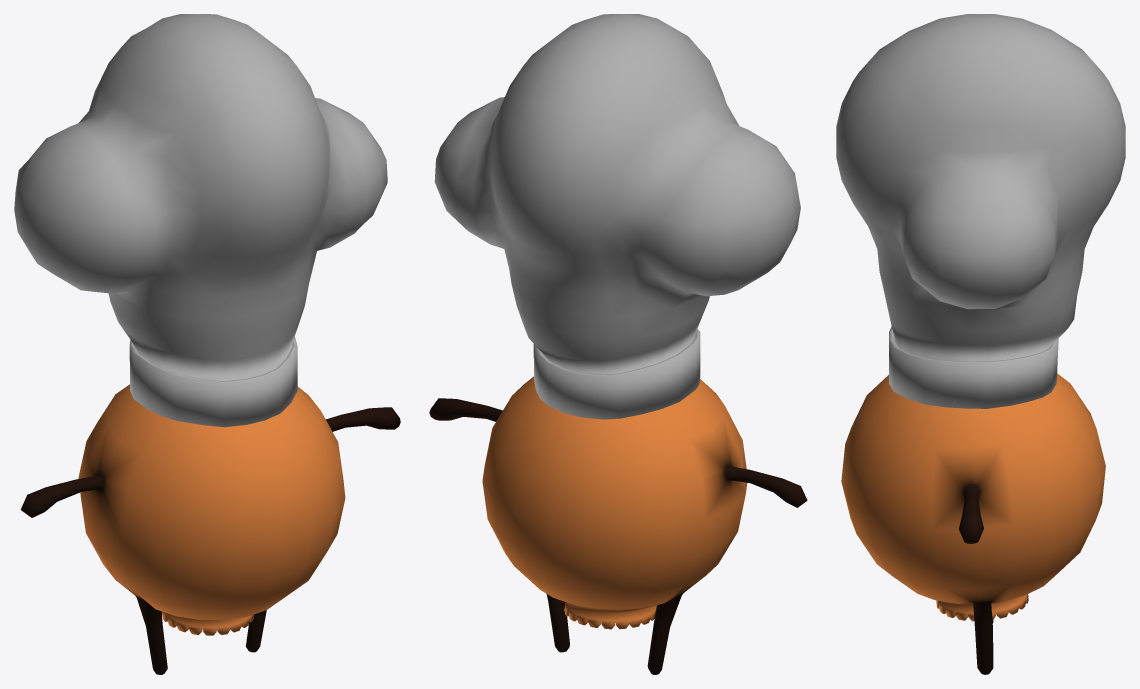
Rendered from Onion_ForTexutring.fbx.
3 renders of one model, left to right at view 1: azimuth 30°, elevation 25°; view 2: azimuth 150°, elevation 25°; view 3: azimuth 270°, elevation 25°, orthographic.
Visible parts, largest first — view 1: ChefHat, Onion; view 2: ChefHat, Onion; view 3: ChefHat, Onion.
Boxes of the visible parts, x1,y1,x2,y2 form: ChefHat: [14, 14, 387, 427]; Onion: [20, 384, 400, 674]; ChefHat: [434, 14, 800, 419]; Onion: [429, 376, 807, 674]; ChefHat: [836, 14, 1125, 408]; Onion: [841, 373, 1105, 674].
Bounding box in the file's own units: 2.97 × 4.77 × 1.99.
